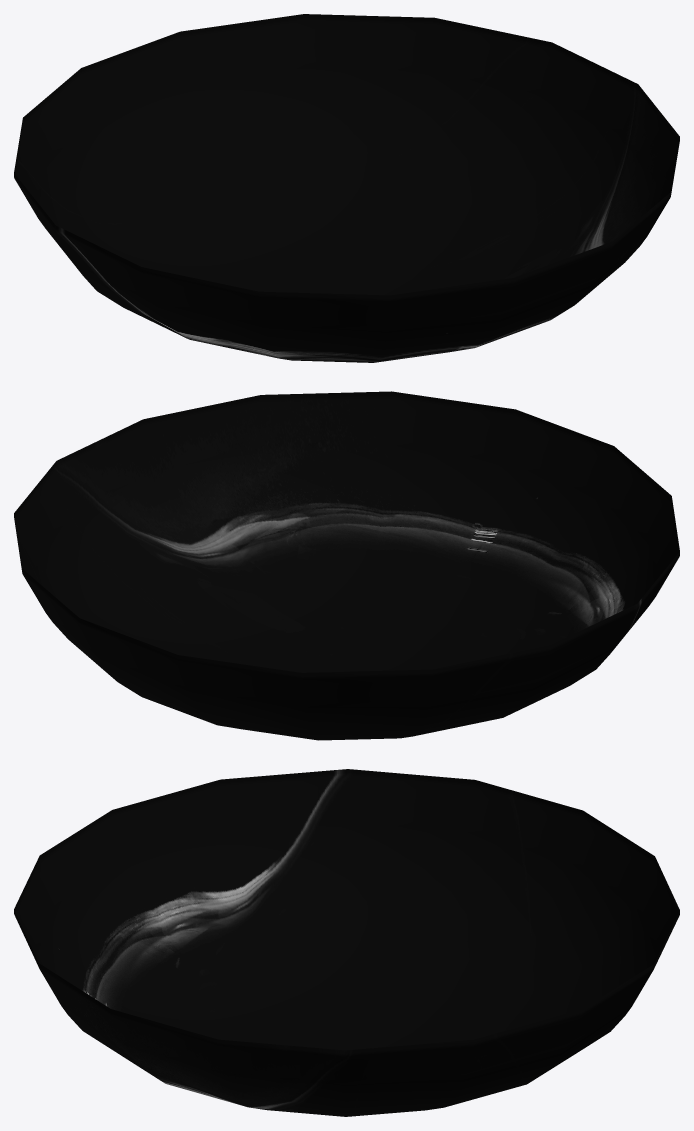
Rendered from Bulp_polymsh11.obj.
3 renders of one model, top to bottom at view 1: azimuth 30°, elevation 25°; view 2: azimuth 150°, elevation 25°; view 3: azimuth 270°, elevation 25°, orthographic.
Visible parts, largest first — view 1: polymsh11; view 2: polymsh11; view 3: polymsh11.
Part boxes in pixels (x1,y1,x2,y2): polymsh11: [14, 14, 679, 362]; polymsh11: [14, 391, 679, 740]; polymsh11: [14, 769, 679, 1116].
Size of the model in its own units: 2.44 by 0.6134 by 2.44.
